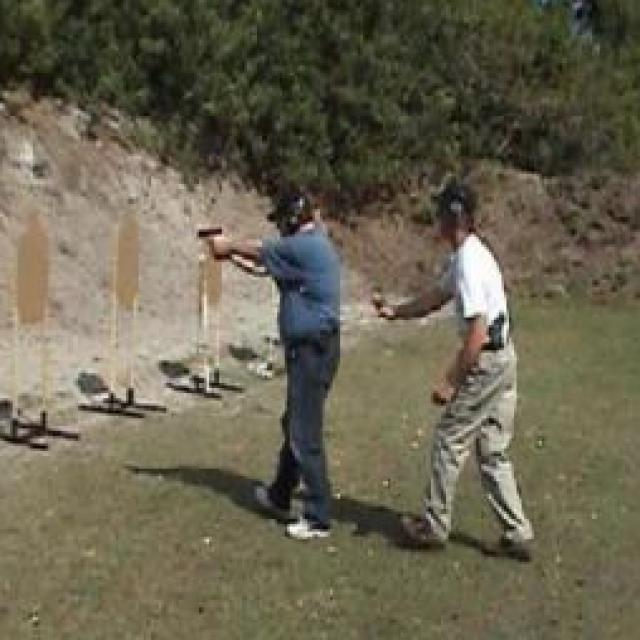pistol: (198, 227, 229, 258)
